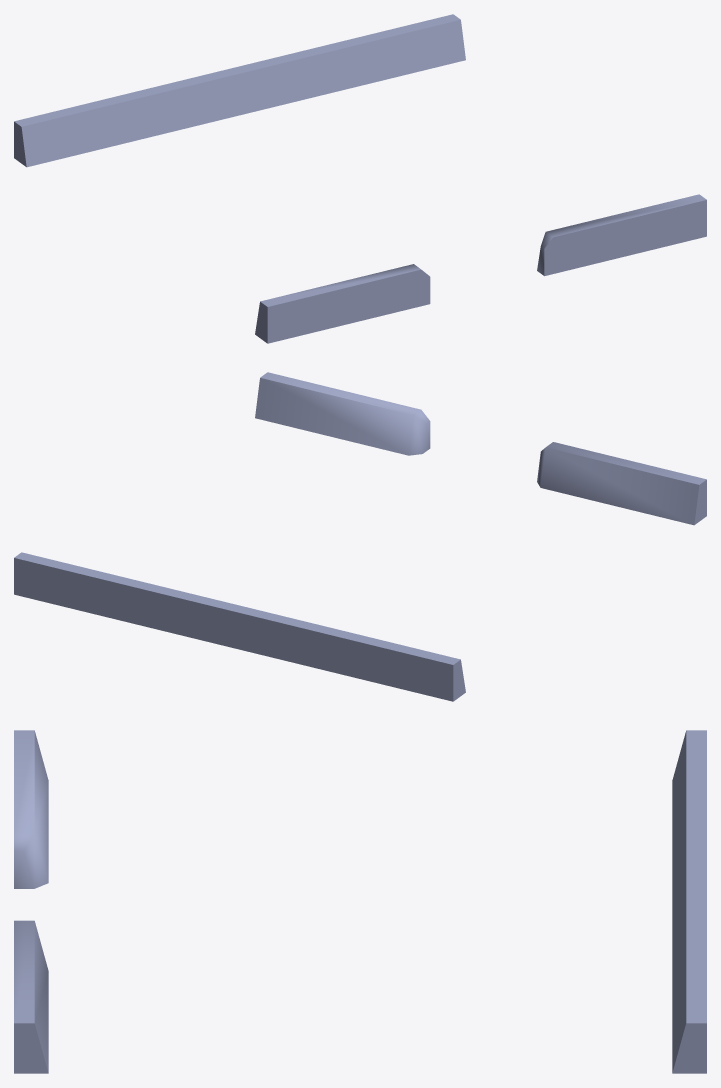
Rendered from road-driveway-single-barrier.glb.
3 renders of one model, top to bottom at view 1: azimuth 30°, elevation 25°; view 2: azimuth 150°, elevation 25°; view 3: azimuth 270°, elevation 25°, orthographic. The views are drawn at different scales.
Parts seen in each view (by area): view 1: road-driveway-single-barrier; view 2: road-driveway-single-barrier; view 3: road-driveway-single-barrier.
Boxes of the visible parts, x1,y1,x2,y2 form: road-driveway-single-barrier: (14,14,706,343); road-driveway-single-barrier: (14,372,706,701); road-driveway-single-barrier: (14,730,706,1073).
Size of the model in its own units: 1 by 0.08 by 1.
Materials: 1 (1 with a texture image).
